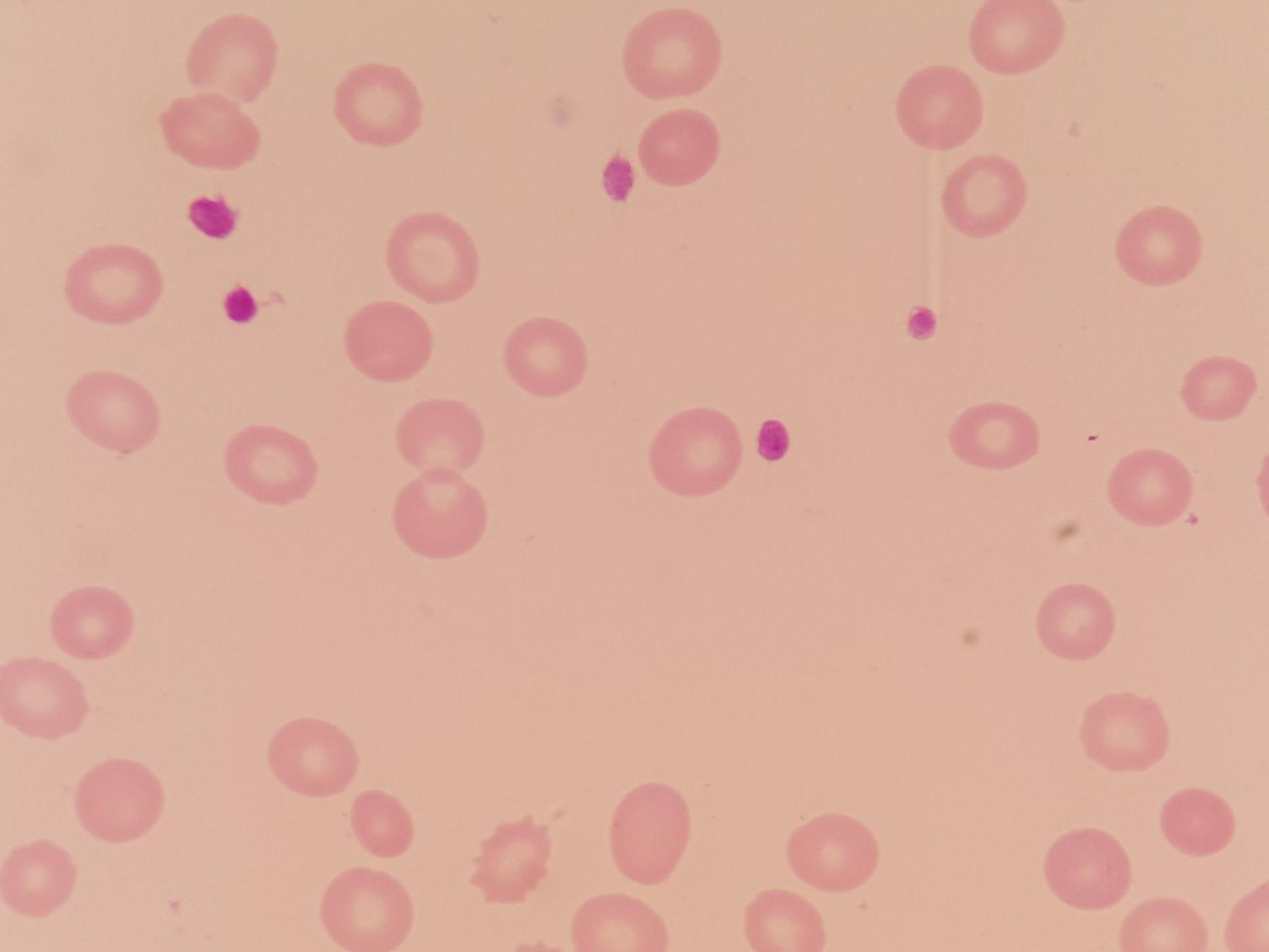Uninfected: (625, 5, 721, 101), (607, 781, 690, 889), (184, 14, 274, 110), (385, 213, 478, 303), (345, 296, 436, 386), (651, 409, 746, 495), (393, 477, 488, 562), (74, 757, 166, 843), (1114, 204, 1206, 288), (262, 720, 358, 800), (157, 97, 265, 168), (61, 248, 162, 323), (323, 866, 411, 952), (944, 152, 1028, 241), (896, 66, 985, 150), (784, 814, 878, 893), (1047, 825, 1132, 912), (0, 661, 90, 743), (334, 66, 422, 148), (223, 429, 318, 504), (1079, 694, 1170, 772), (970, 0, 1063, 75), (1108, 447, 1193, 529), (398, 398, 485, 478), (66, 372, 154, 451), (46, 586, 135, 661), (472, 818, 551, 902), (0, 838, 79, 919), (950, 401, 1043, 469), (568, 890, 670, 952), (507, 317, 584, 397), (1036, 582, 1113, 660), (642, 110, 718, 187), (345, 788, 417, 862), (741, 890, 826, 952), (1182, 355, 1259, 422), (1160, 789, 1237, 852), (1119, 899, 1209, 952)
